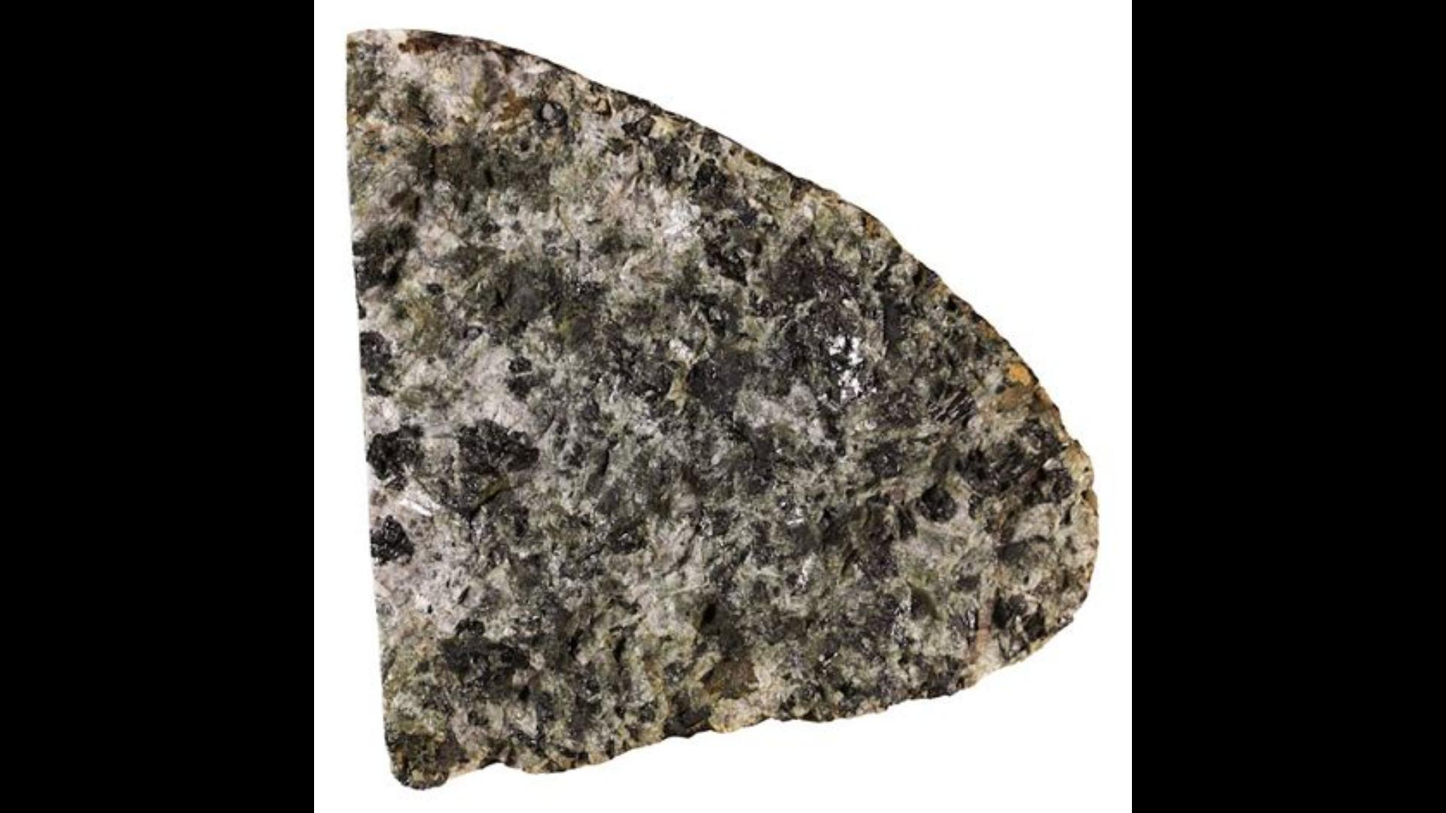rock: (350, 36, 1096, 780)
